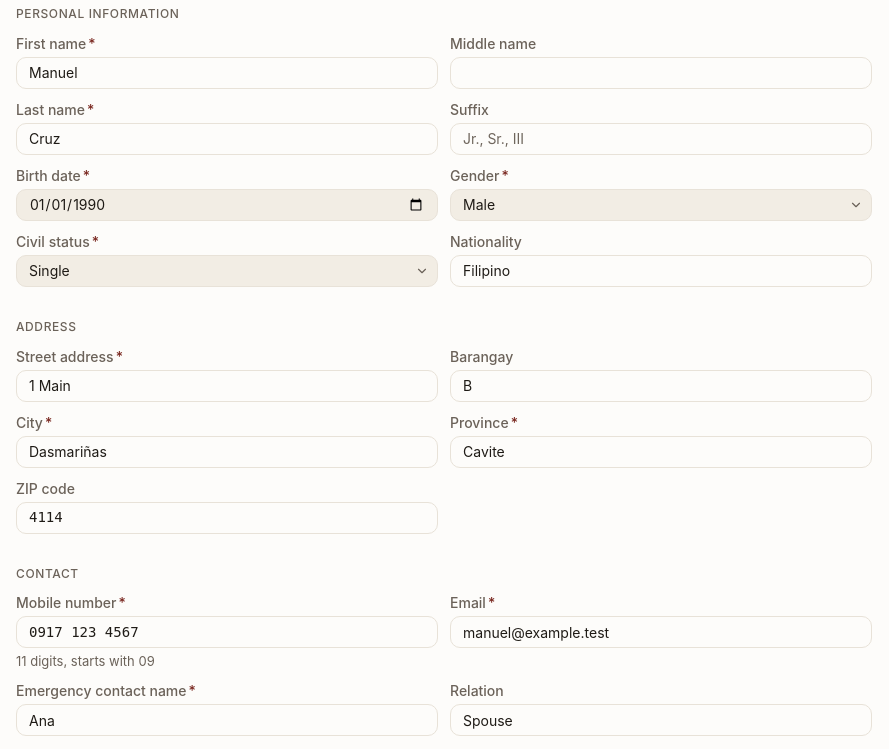
EmployeeForm edit mode › enables Save when an ordinary field changes
Replace the text in the field labelled "First name*" with "Manny" at (227, 73), box [17,58,437,88]
(page scrolled)
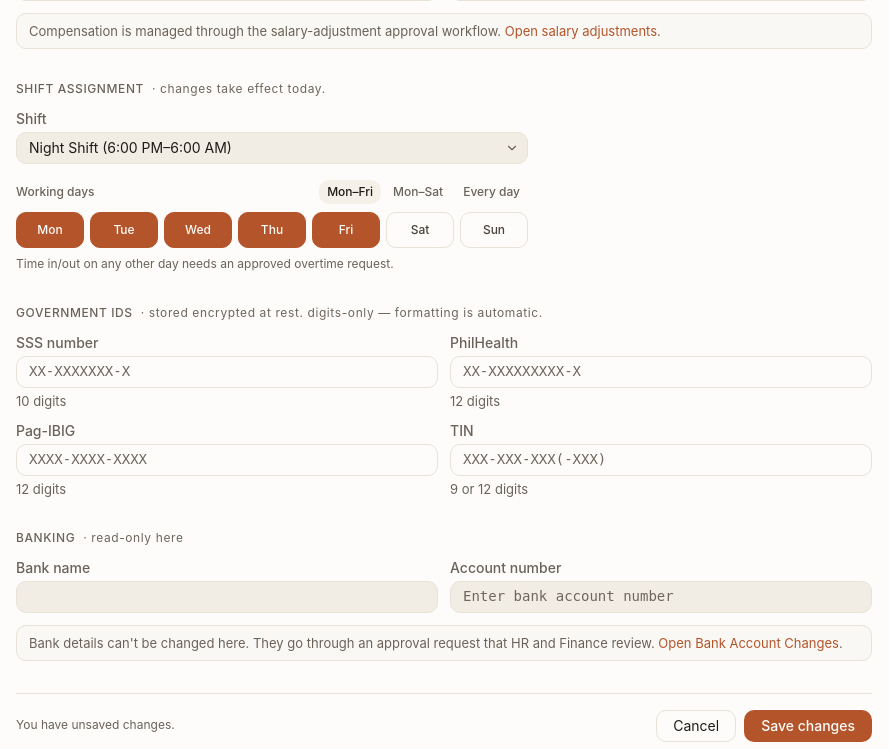
expect the button "Save changes" is enabled: met, box [744,710,872,742]
